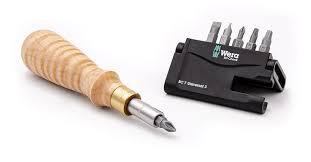screwdriver: (16, 27, 162, 125), (154, 115, 177, 132), (205, 20, 221, 41), (258, 28, 272, 51), (218, 21, 232, 44), (244, 26, 258, 49), (231, 25, 245, 47)
